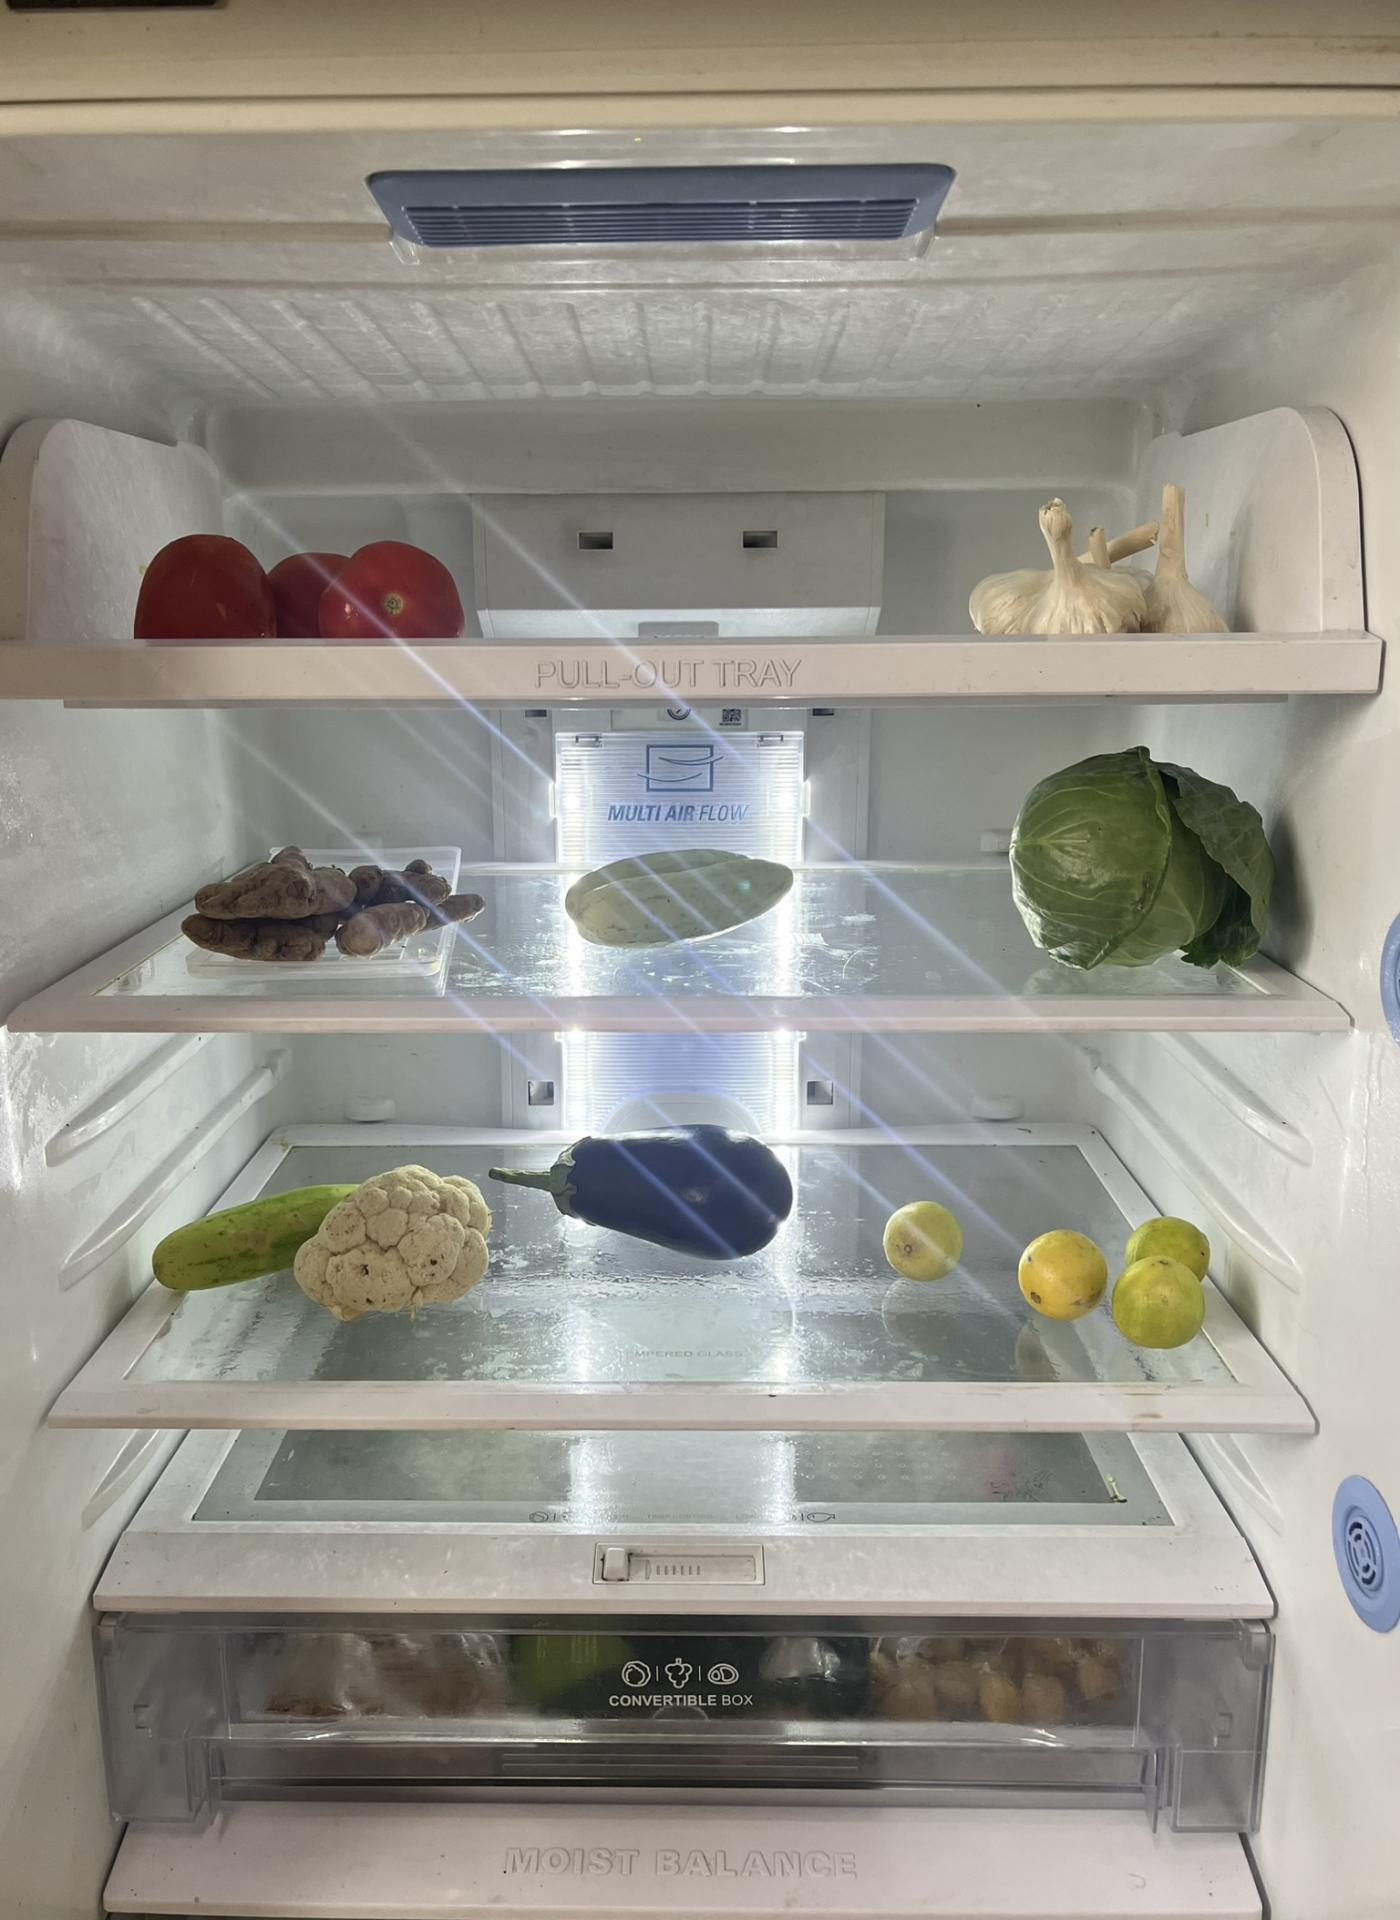brinjal: (461, 1136, 802, 1260)
cabbage: (1008, 738, 1275, 972)
cauliflower: (286, 1166, 494, 1321)
cucumber: (146, 1179, 376, 1300), (559, 839, 805, 947)
garlic: (980, 489, 1230, 642)
ginger: (176, 844, 489, 959)
lemon: (1114, 1216, 1215, 1354), (1017, 1225, 1112, 1328), (884, 1201, 966, 1289)
tomato: (137, 537, 465, 645)
